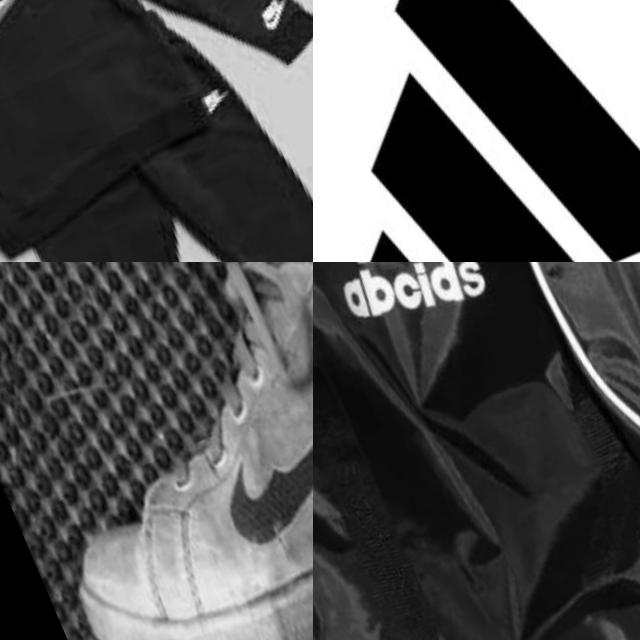ADIDAS_fake: (313, 262, 506, 362)
ADIDAS_original: (313, 0, 640, 262)
NIKE_fake: (190, 359, 313, 557)
NIKE_original: (0, 0, 78, 97)
